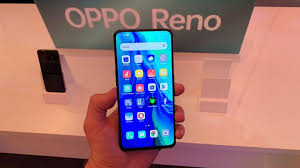oppo: (112, 25, 176, 151)
